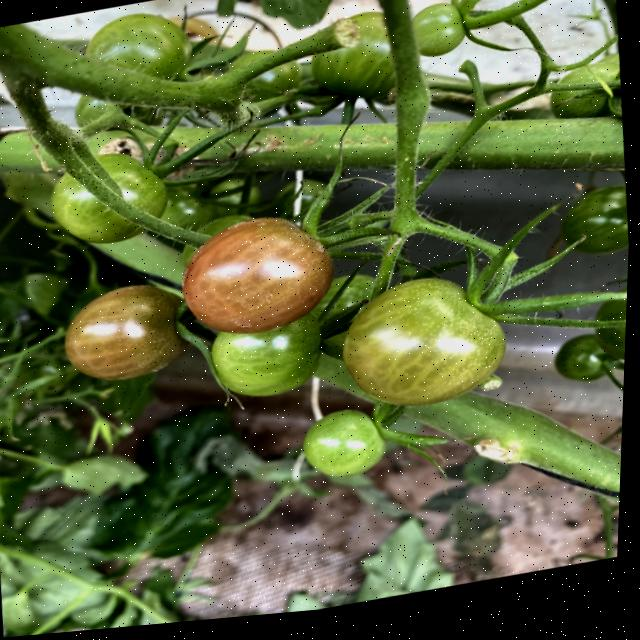ripe0: (341, 265, 509, 418), (304, 405, 386, 484)
ripe1: (179, 204, 335, 345), (64, 275, 186, 390)
